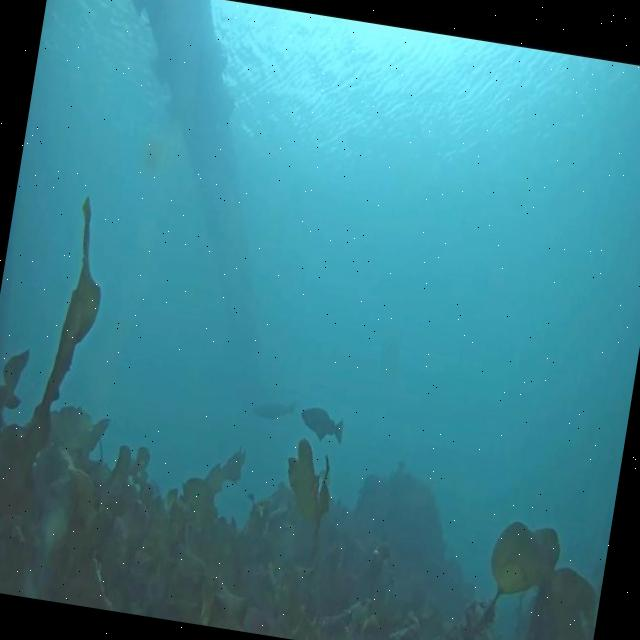fish: (297, 402, 347, 442), (249, 392, 298, 427)
